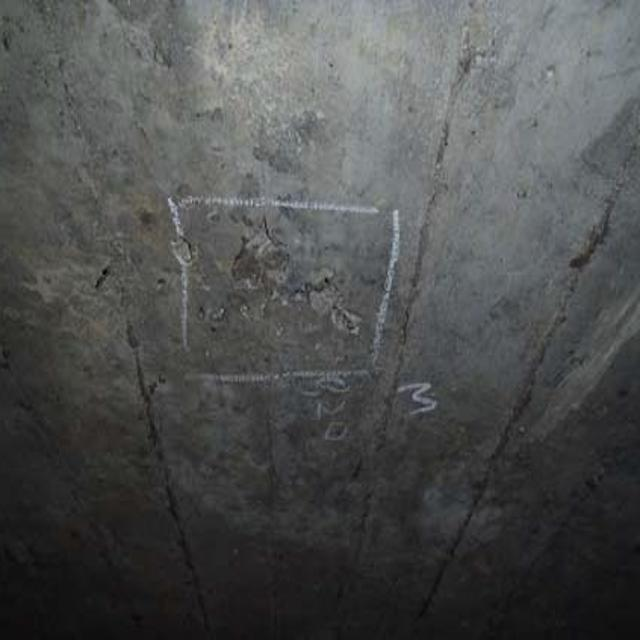spalling: (212, 203, 382, 360)
